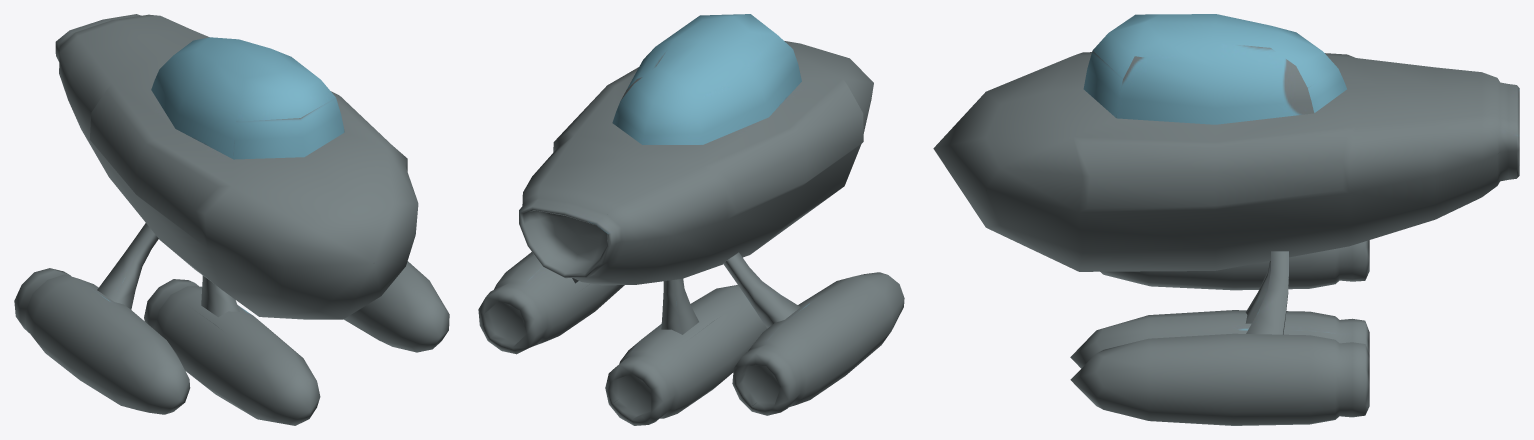
File: Ship_Med_Mesh.fbx
3 views of the same model, side by side, from view 1: azimuth 30°, elevation 25°; view 2: azimuth 150°, elevation 25°; view 3: azimuth 270°, elevation 25° (orthographic). The views are drawn at different scales.
Parts seen in each view (by area): view 1: Ship_Med_Mesh; view 2: Ship_Med_Mesh; view 3: Ship_Med_Mesh.
Boxes of the visible parts, x1,y1,x2,y2 form: Ship_Med_Mesh: (14,14,449,425); Ship_Med_Mesh: (478,14,904,425); Ship_Med_Mesh: (933,14,1519,425).
Bounding box in the file's own units: 6.56 × 6.6 × 9.28.
